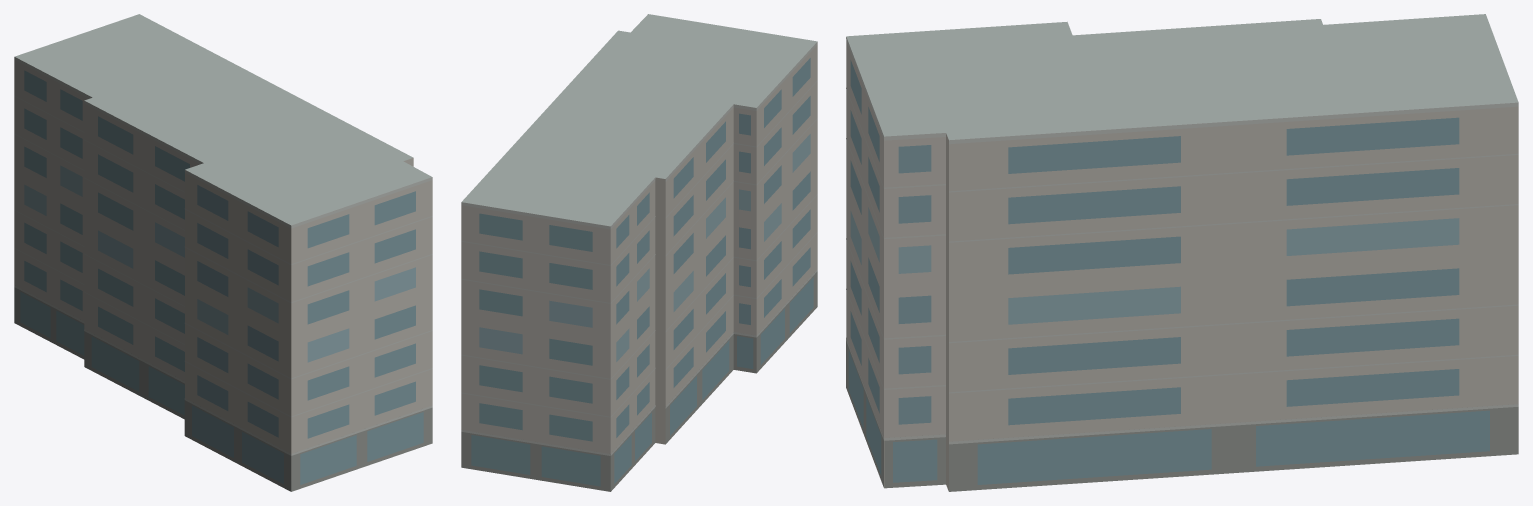
The model's file is survey-upis-32703619.glb.
3 views of the same model, side by side, from view 1: azimuth 30°, elevation 25°; view 2: azimuth 150°, elevation 25°; view 3: azimuth 270°, elevation 25° (orthographic). The views are drawn at different scales.
Visible parts, largest first — view 1: survey-upis-32703619.tmp; view 2: survey-upis-32703619.tmp; view 3: survey-upis-32703619.tmp.
Part boxes in pixels (x1,y1,x2,y2): survey-upis-32703619.tmp: [14, 14, 432, 491]; survey-upis-32703619.tmp: [461, 14, 817, 491]; survey-upis-32703619.tmp: [846, 14, 1518, 491].
Bounding box in the file's own units: 16.26 × 21.1 × 36.59.
